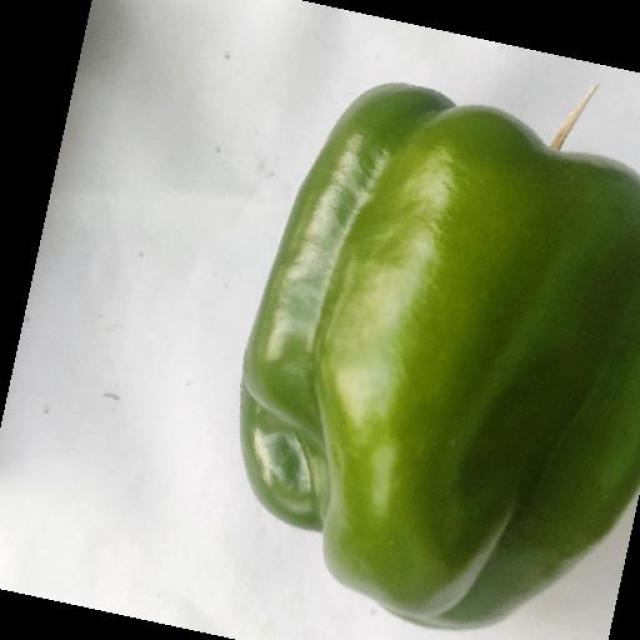Fresh_Capsicum: (239, 88, 640, 636)
